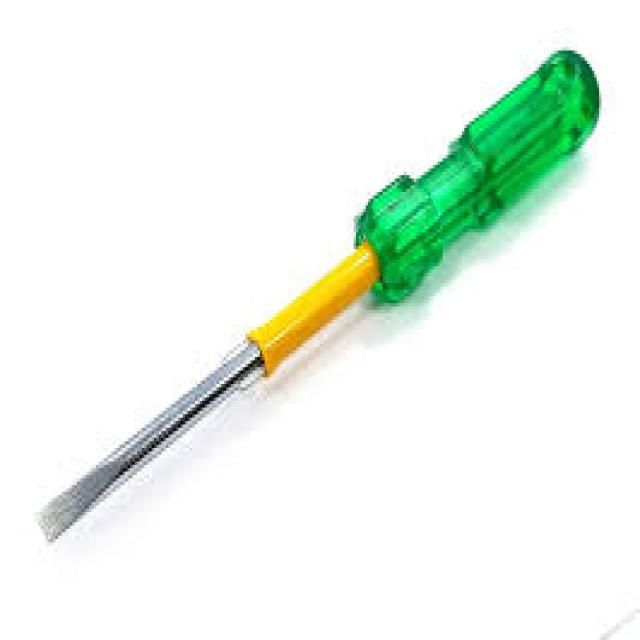screwdriver: (34, 44, 602, 542)
